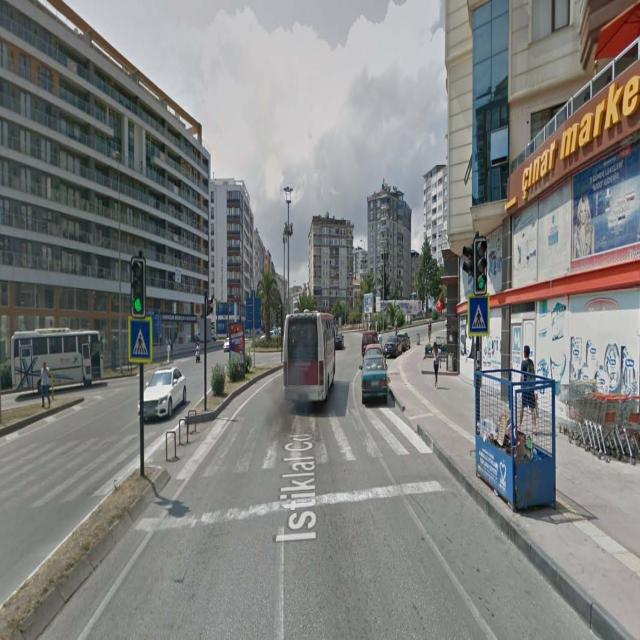yesil: (474, 237, 489, 296), (131, 258, 145, 317)
